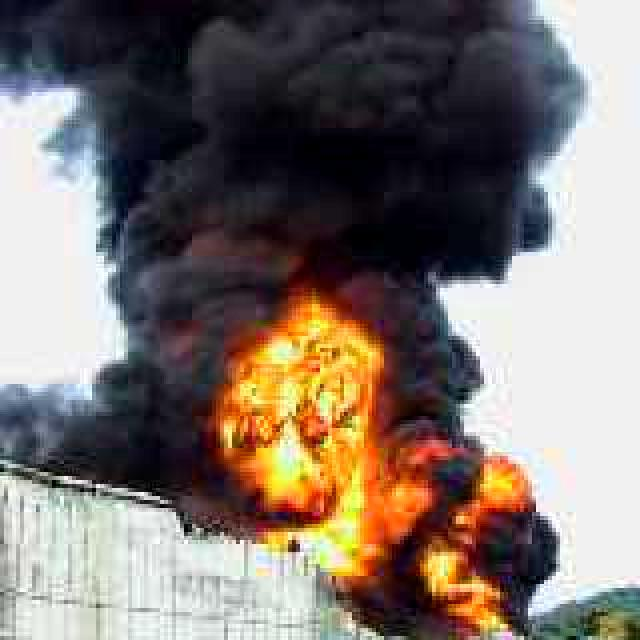smoke: (0, 0, 604, 328), (0, 372, 220, 532)
